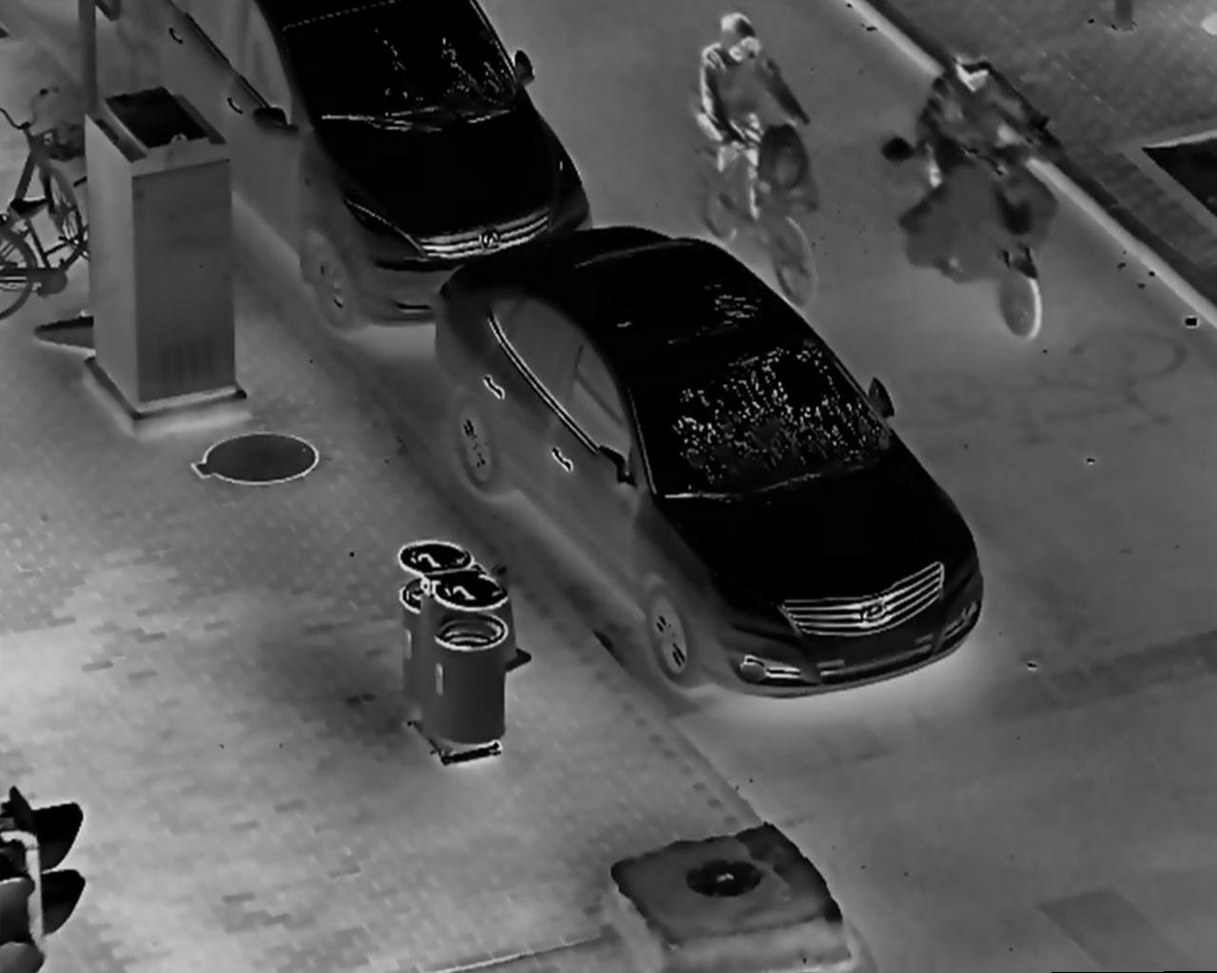person: (914, 48, 1064, 257), (694, 11, 811, 220)
